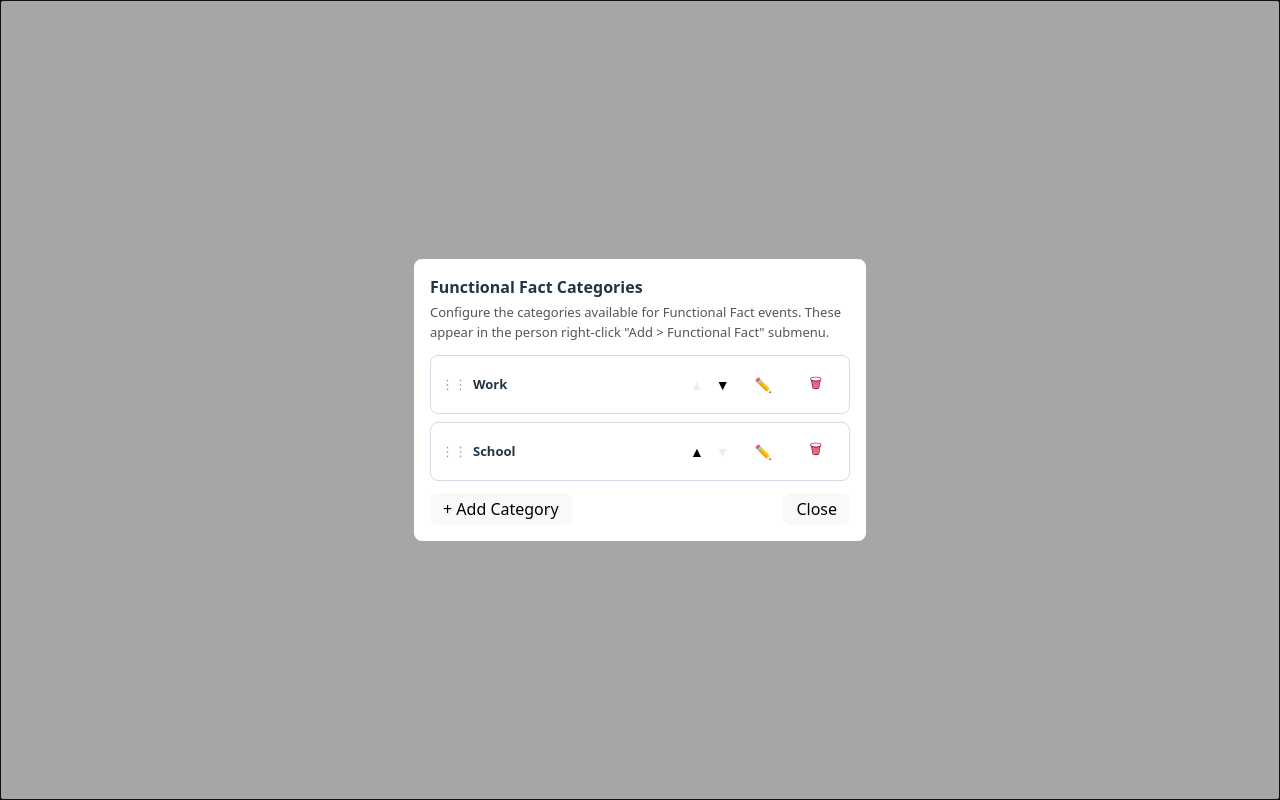
Scenario: FunctionalFactSettingsModal — names (settings-07) › refuses a duplicate rename
This screenshot has width=1280, height=800.
Click the button named "Edit Work".
click(763, 385)  # box [738,367,789,402]
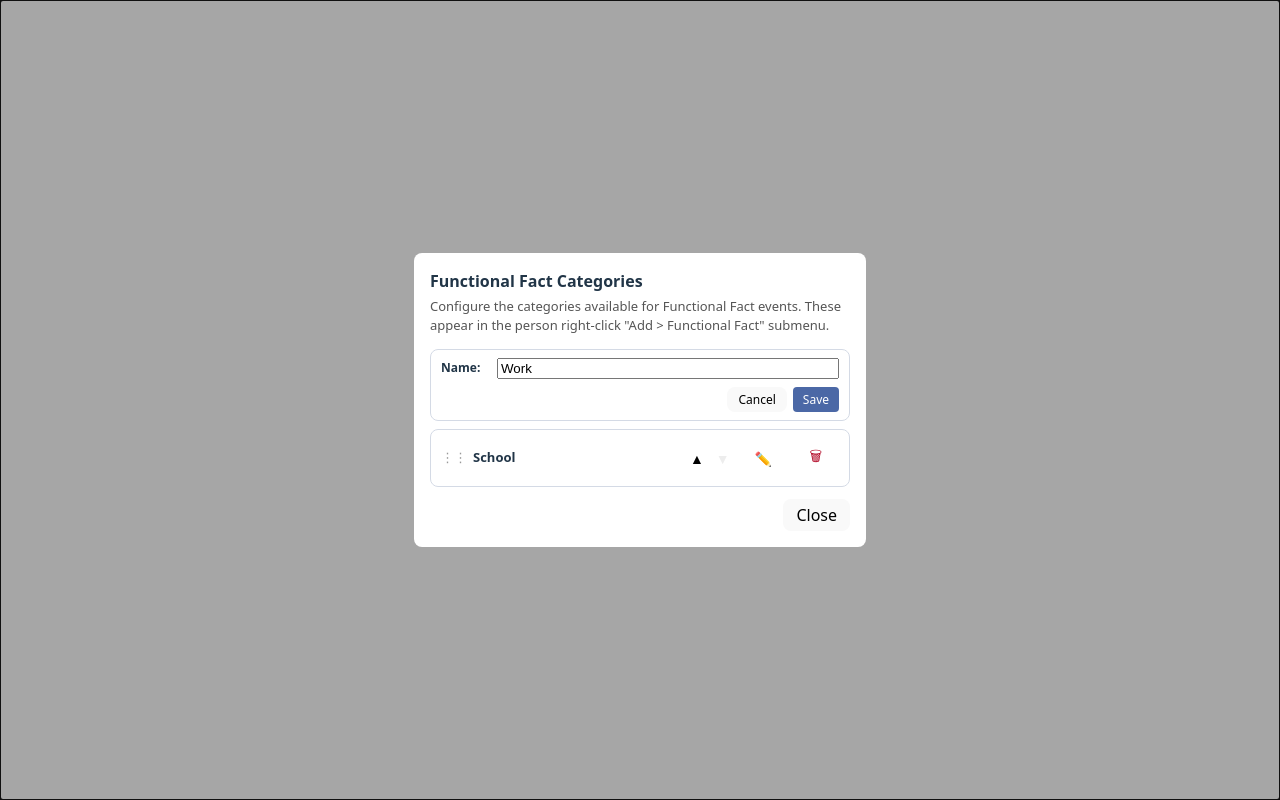
Replace the text in the field named "Category name" with " school " at [668, 368], box [497,358,839,379]
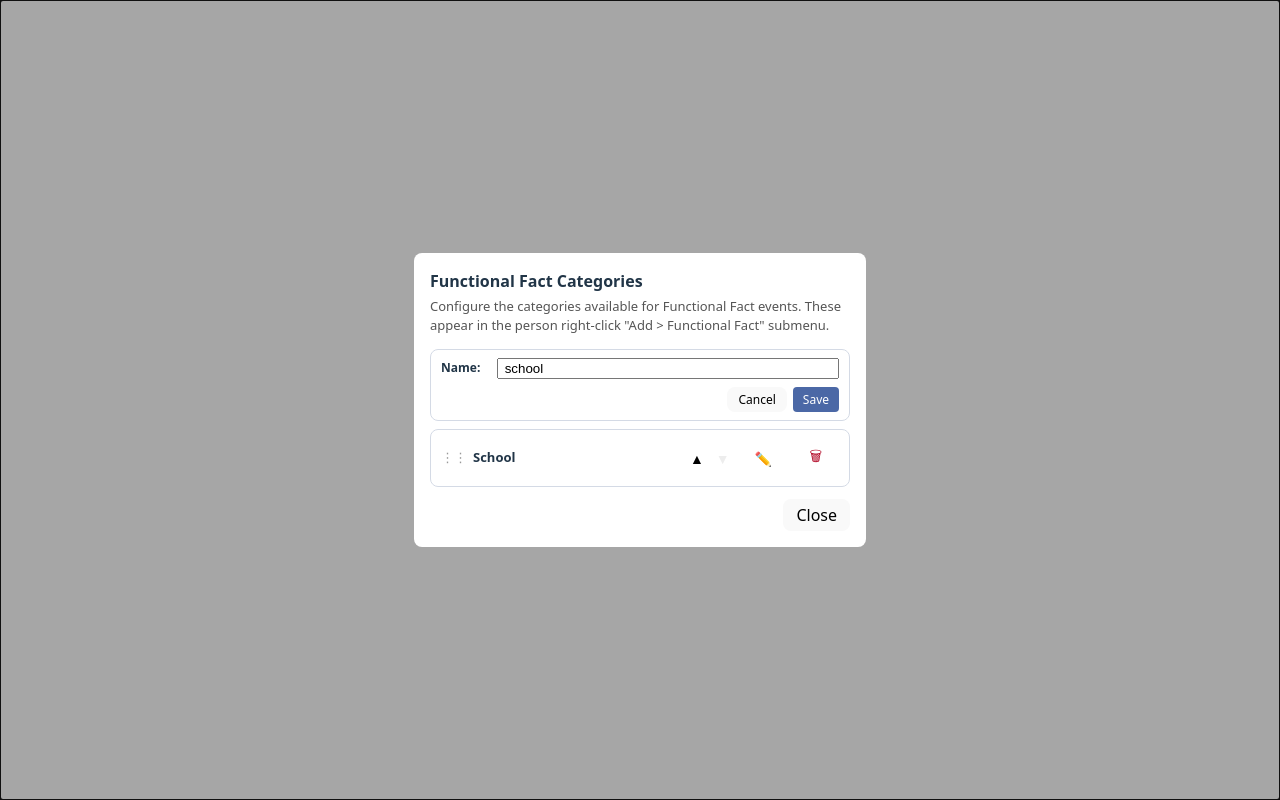
Click the button "Save".
click(816, 399)  # box [793,387,839,412]
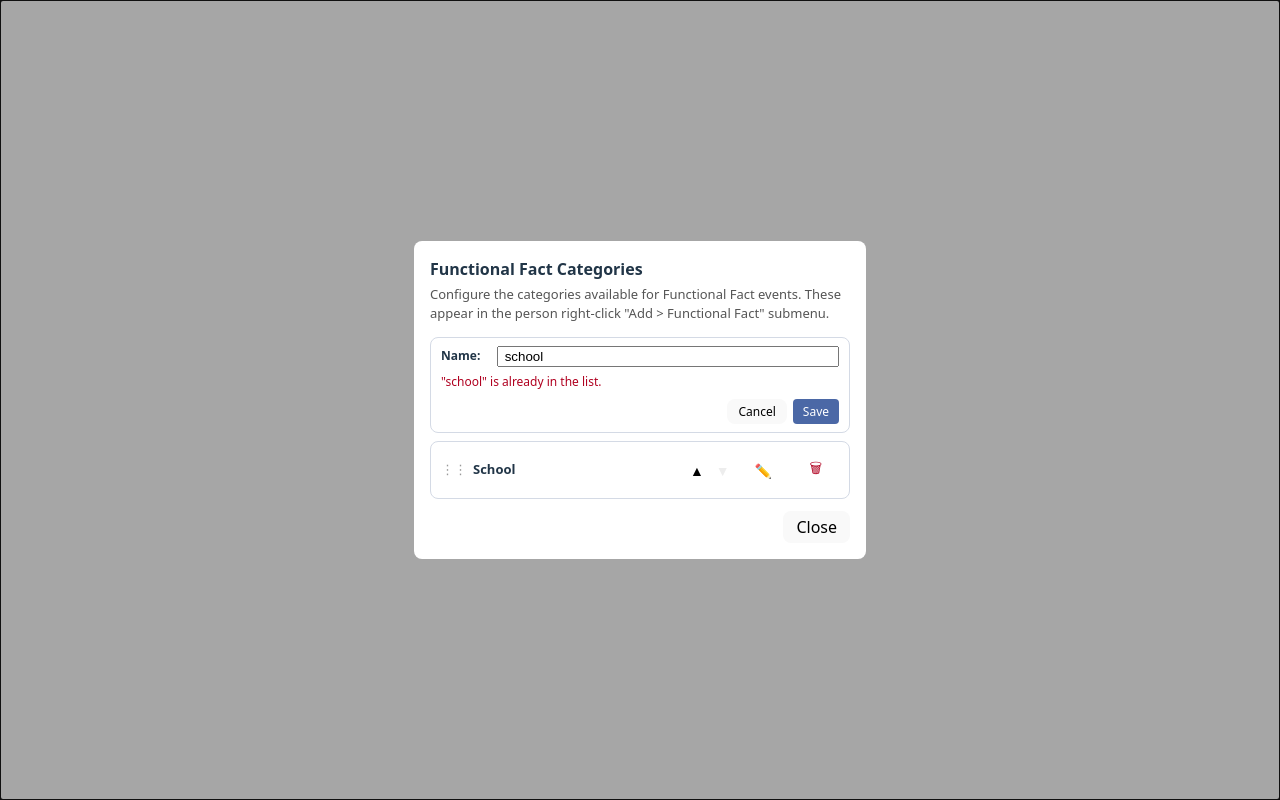
expect the message shows "already in the list": met, box [441,373,602,390]
